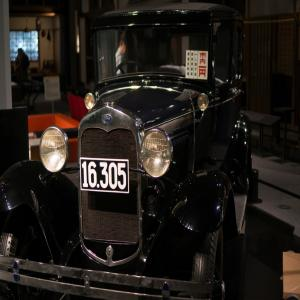Vehicle-registration-plate: (81, 156, 129, 196)
